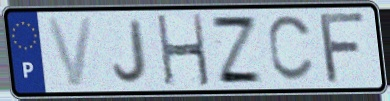C: (265, 13, 317, 85)
F: (318, 10, 370, 86)
H: (154, 12, 213, 89)
J: (110, 17, 149, 85)
V: (43, 15, 97, 90)
Z: (208, 14, 266, 85)
